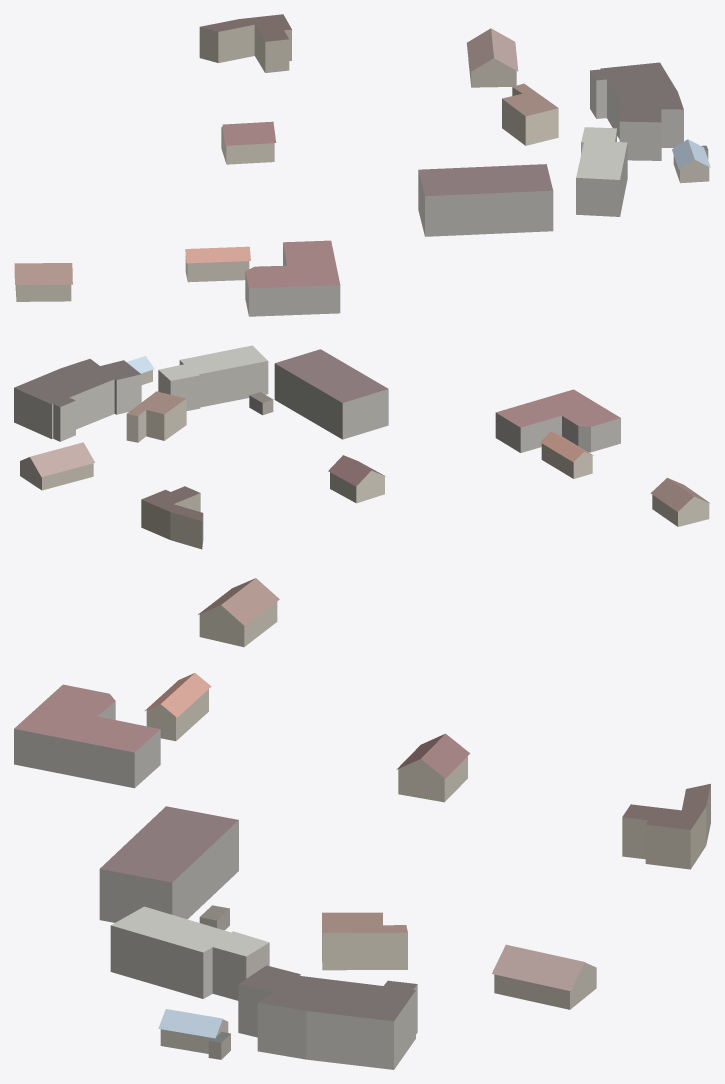
The picture shows the model from 3 angles, top to bottom: view 1: azimuth 30°, elevation 25°; view 2: azimuth 150°, elevation 25°; view 3: azimuth 270°, elevation 25°; orthographic projection. The views are drawn at different scales.
Parts seen in each view (by area): view 1: tuile; view 2: tuile; view 3: tuile.
Part boxes in pixels (x1,y1,x2,y2): tuile: [14, 14, 710, 316]; tuile: [14, 345, 710, 549]; tuile: [14, 578, 710, 1069].
Bounding box in the file's own units: 194 × 17.42 × 131.
